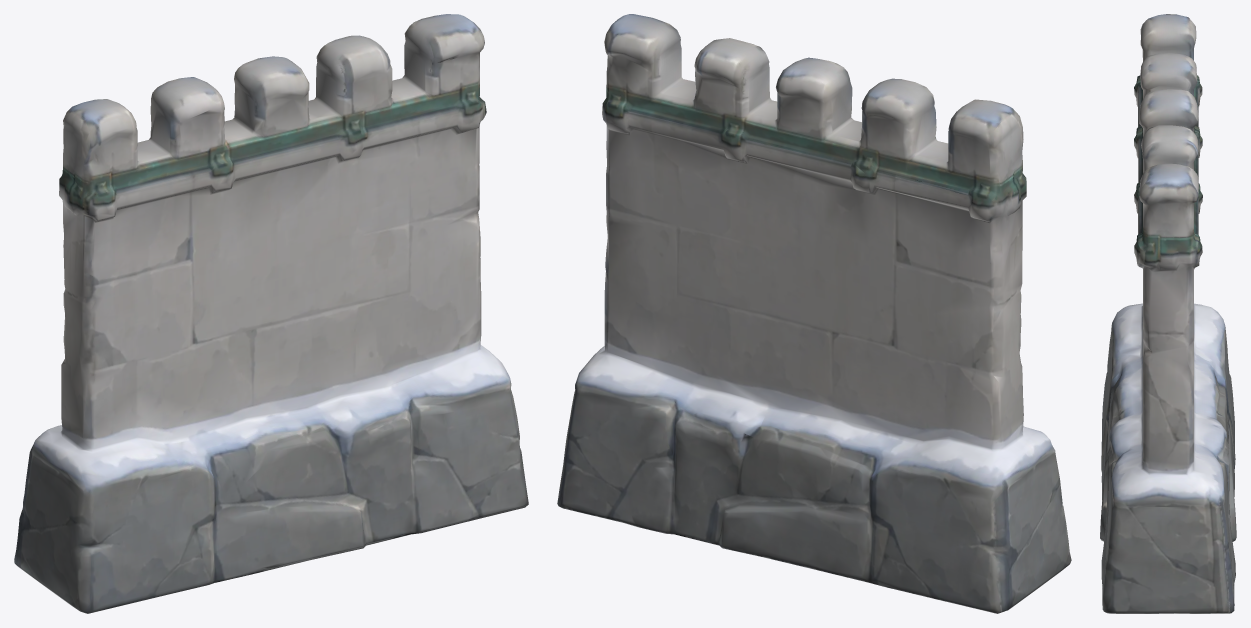
The model's file is SM_Tripo_FrostRampartPlain.glb.
3 renders of one model, left to right at view 1: azimuth 30°, elevation 25°; view 2: azimuth 150°, elevation 25°; view 3: azimuth 270°, elevation 25°, orthographic. The views are drawn at different scales.
Parts seen in each view (by area): view 1: SM_Tripo_FrostRampartPlain_LOD0; view 2: SM_Tripo_FrostRampartPlain_LOD0; view 3: SM_Tripo_FrostRampartPlain_LOD0.
Boxes of the visible parts, box(x1,y1,x2,y2) form: SM_Tripo_FrostRampartPlain_LOD0: box(14, 14, 528, 613); SM_Tripo_FrostRampartPlain_LOD0: box(557, 14, 1071, 613); SM_Tripo_FrostRampartPlain_LOD0: box(1100, 14, 1236, 613).
Size of the model in its own units: 8.65 by 8.65 by 2.54.
Materials: 1 (1 with a texture image).
